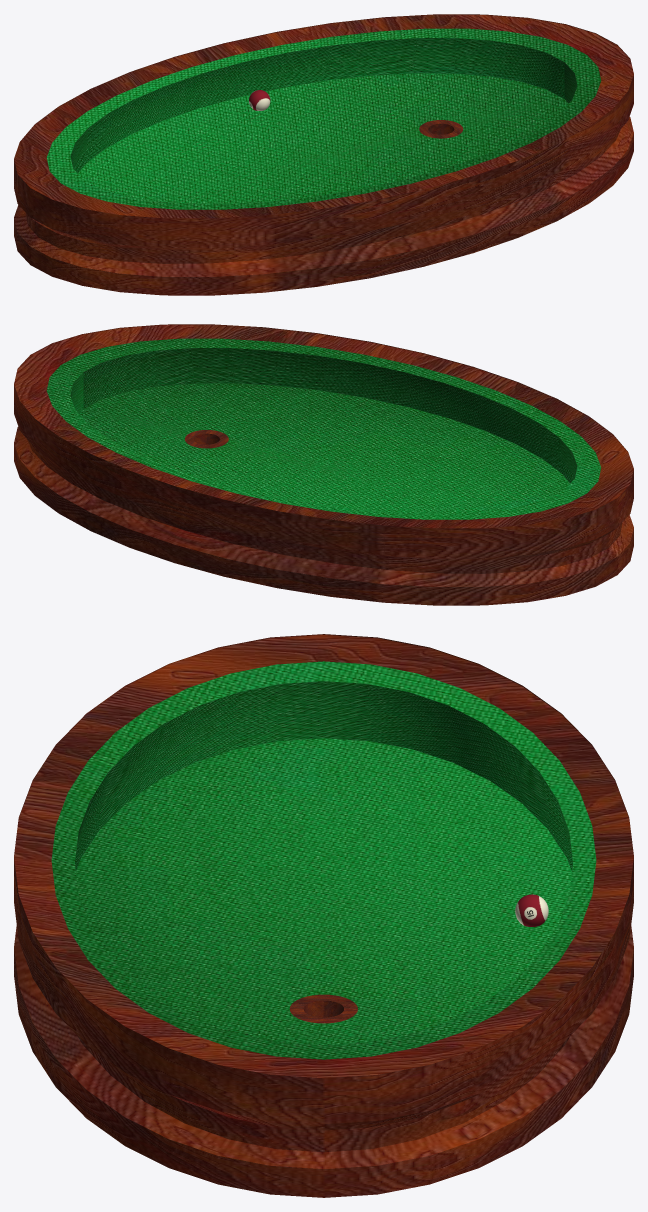
The model's file is mesa de billar 5.0.fbx.
3 renders of one model, top to bottom at view 1: azimuth 30°, elevation 25°; view 2: azimuth 150°, elevation 25°; view 3: azimuth 270°, elevation 25°, orthographic. The views are drawn at different scales.
Visible parts, largest first — view 1: Tube, Cylinder, Tube_2; view 2: Tube, Cylinder, Tube_2; view 3: Tube, Cylinder, Tube_2, Sphere.
Part boxes in pixels (left/top/right/bottom): Tube: left=14, top=14, right=633, bottom=295; Cylinder: left=78, top=73, right=568, bottom=203; Tube_2: left=419, top=120, right=463, bottom=138; Tube: left=14, top=324, right=633, bottom=605; Cylinder: left=79, top=383, right=569, bottom=513; Tube_2: left=185, top=430, right=228, bottom=448; Tube: left=14, top=634, right=633, bottom=1197; Cylinder: left=76, top=738, right=571, bottom=1045; Tube_2: left=289, top=994, right=357, bottom=1023; Sphere: left=515, top=894, right=548, bottom=926.
Size of the model in its own units: 559 by 80.22 by 330.
Materials: 3 (3 with a texture image).
